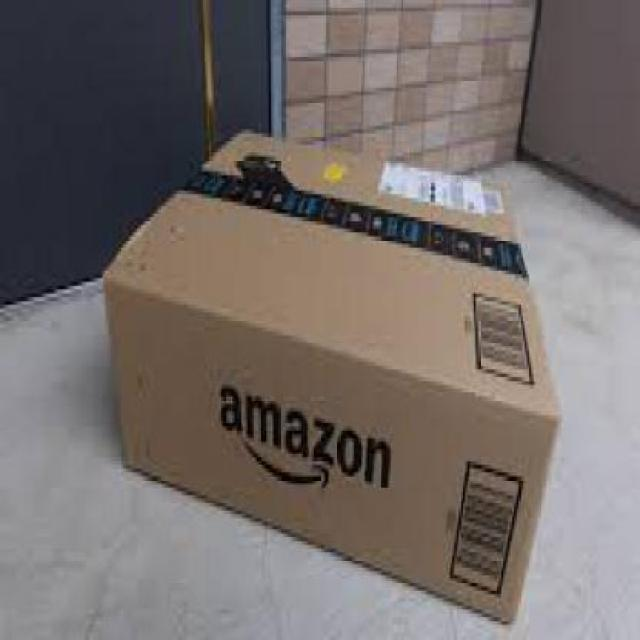cardboxes: (102, 125, 566, 632)
